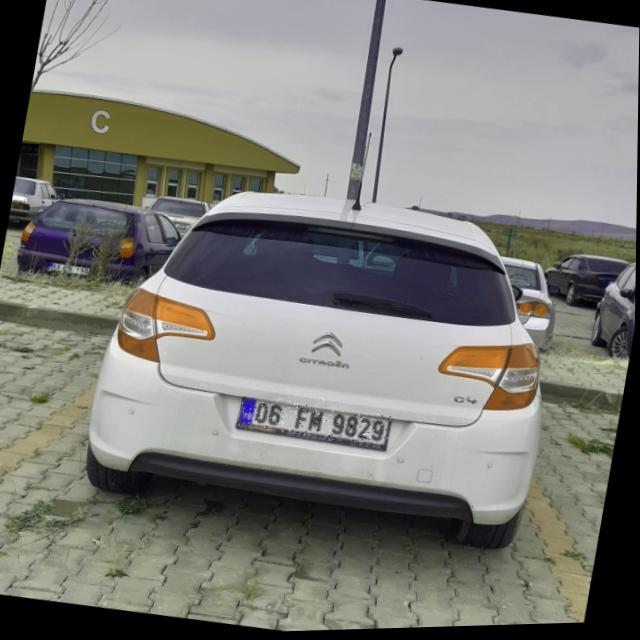license_plate: (239, 395, 393, 451)
